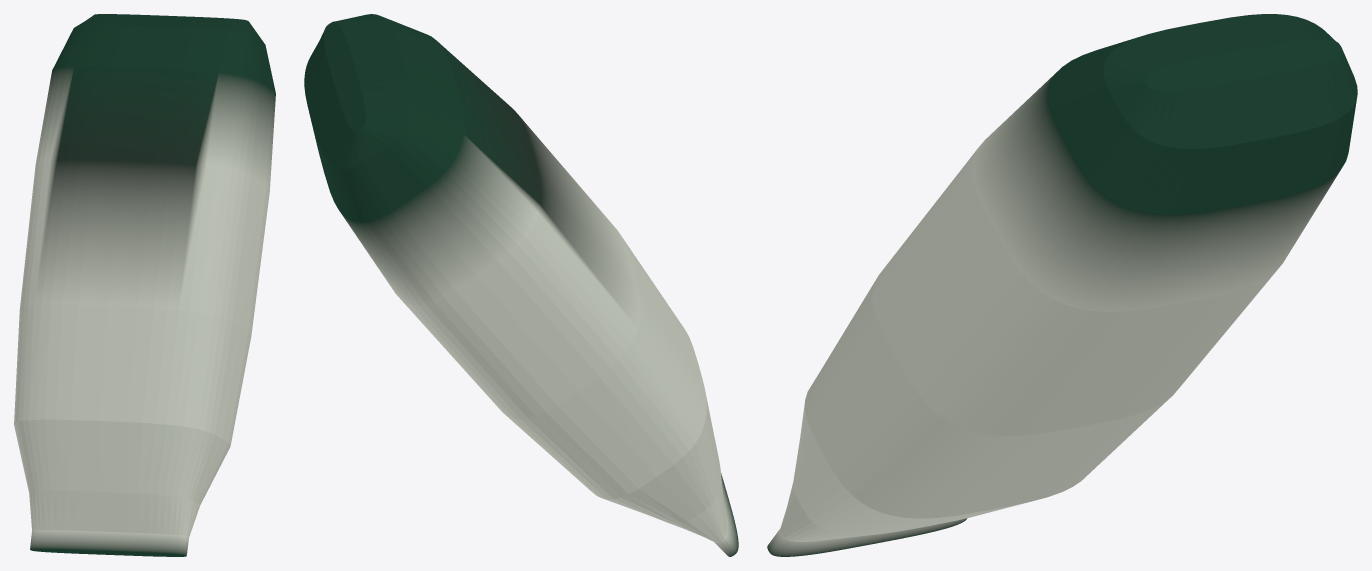
The model's file is component_035_pet_food_bag_top.glb.
The picture shows the model from 3 angles, left to right: view 1: azimuth 30°, elevation 25°; view 2: azimuth 150°, elevation 25°; view 3: azimuth 270°, elevation 25°; orthographic projection. The views are drawn at different scales.
Parts seen in each view (by area): view 1: 035_pet_food_bag_top_000_instance_000_photo_-01; view 2: 035_pet_food_bag_top_000_instance_000_photo_-01; view 3: 035_pet_food_bag_top_000_instance_000_photo_-01.
Boxes of the visible parts, x1,y1,x2,y2 form: 035_pet_food_bag_top_000_instance_000_photo_-01: (14, 14, 275, 556); 035_pet_food_bag_top_000_instance_000_photo_-01: (304, 14, 738, 556); 035_pet_food_bag_top_000_instance_000_photo_-01: (767, 14, 1357, 556).
Bounding box in the file's own units: 0.1098 × 0.1526 × 0.1258.
